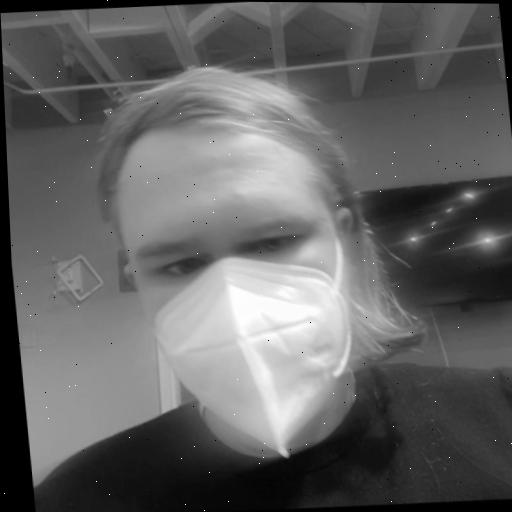mask: (102, 43, 447, 470)
